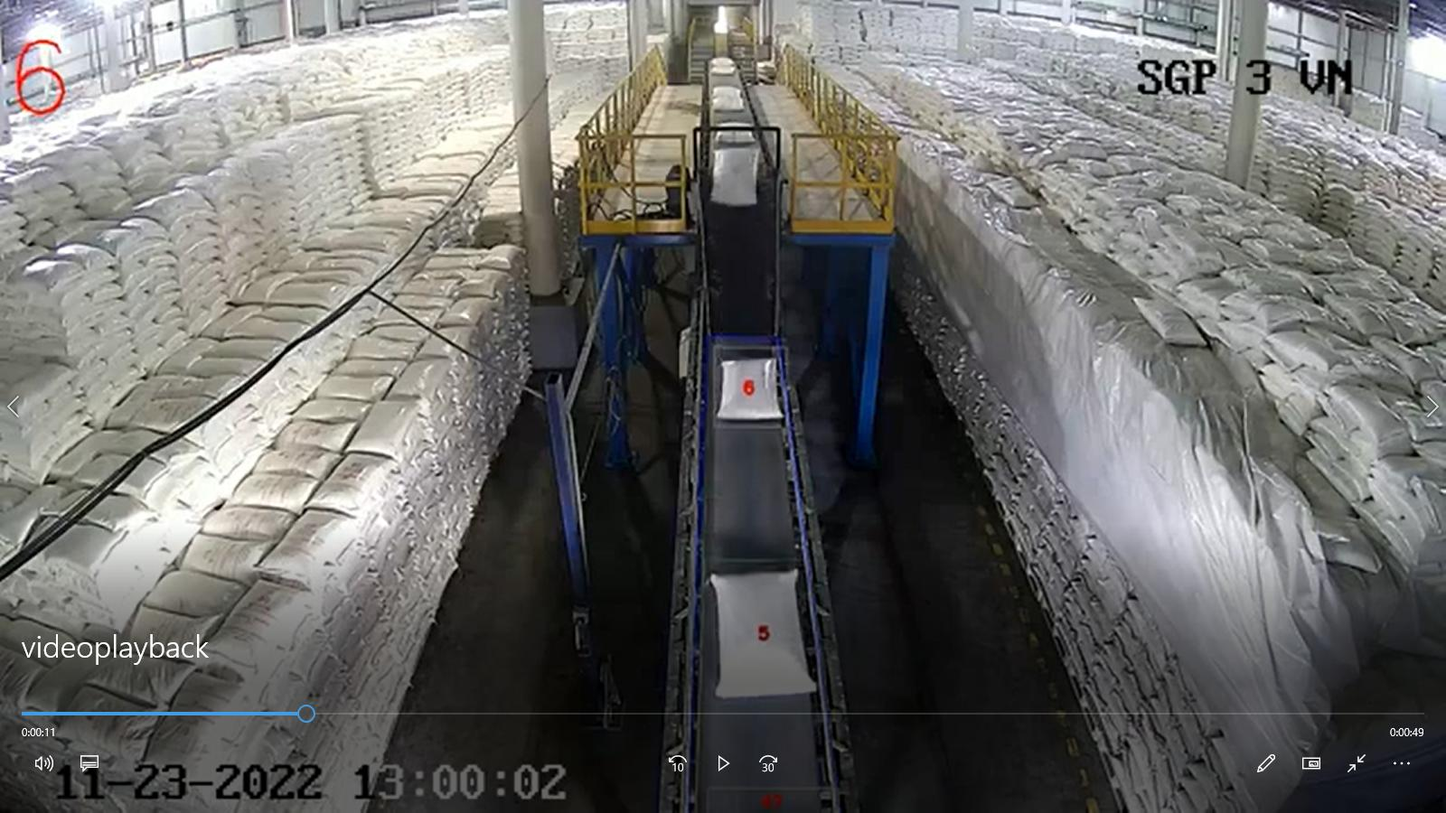rice-bag: (709, 569, 814, 697), (717, 358, 782, 420), (711, 145, 758, 207)
